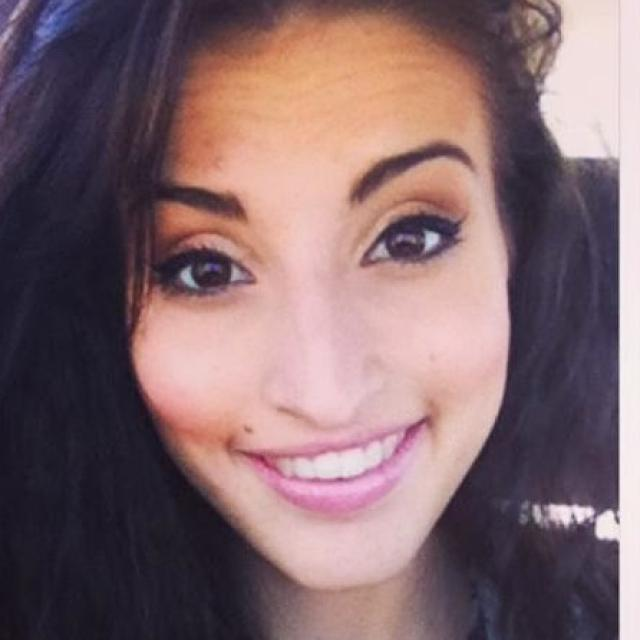Normal: (117, 26, 511, 592)
